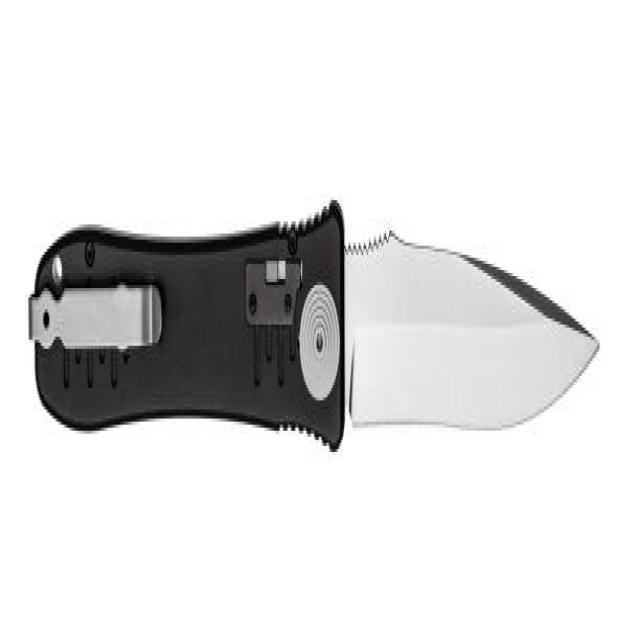knife: (23, 140, 606, 466)
